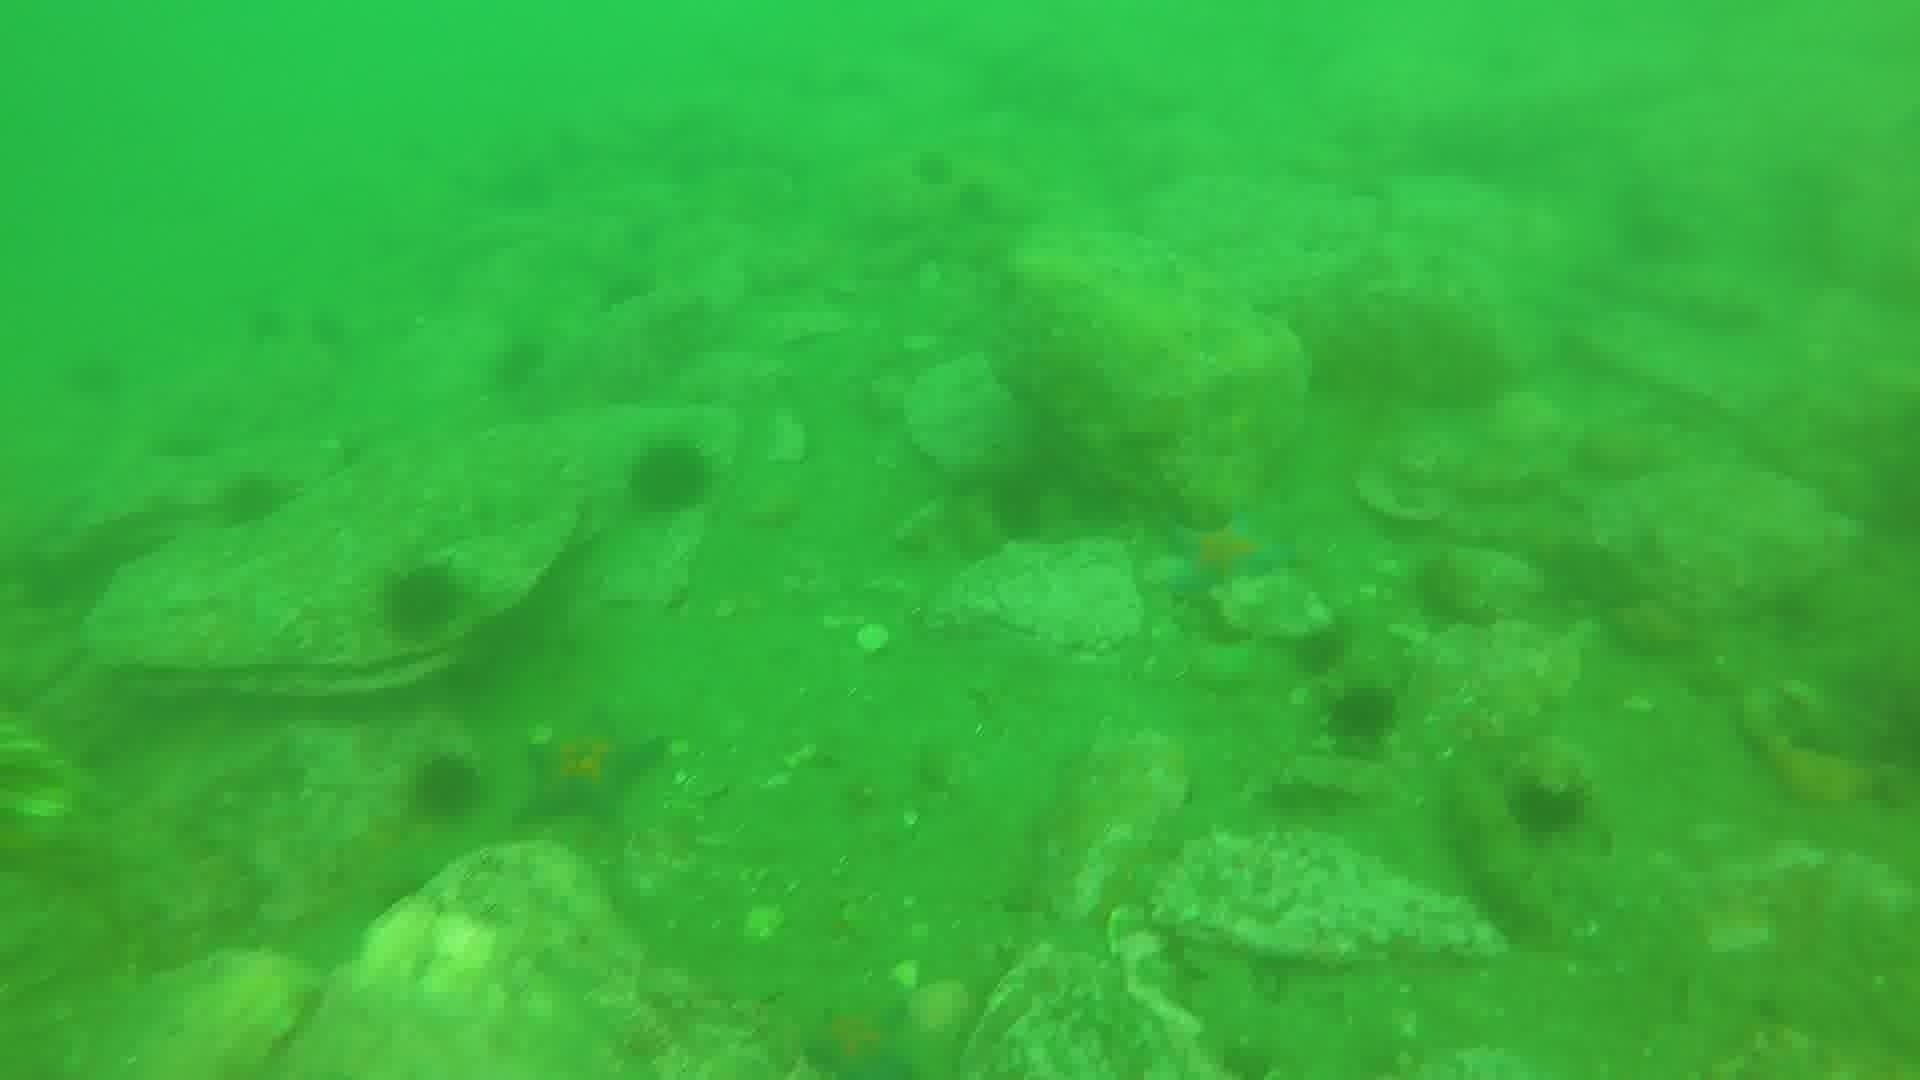echinus: (375, 560, 469, 646), (622, 436, 716, 520), (404, 749, 489, 827), (1503, 771, 1592, 845), (1319, 679, 1403, 756), (214, 469, 294, 533), (484, 332, 551, 398), (1287, 621, 1354, 680), (907, 146, 957, 191)
holothurian: (1439, 766, 1557, 945)
starfish: (513, 711, 666, 835), (1158, 509, 1298, 601), (793, 990, 938, 1079)
